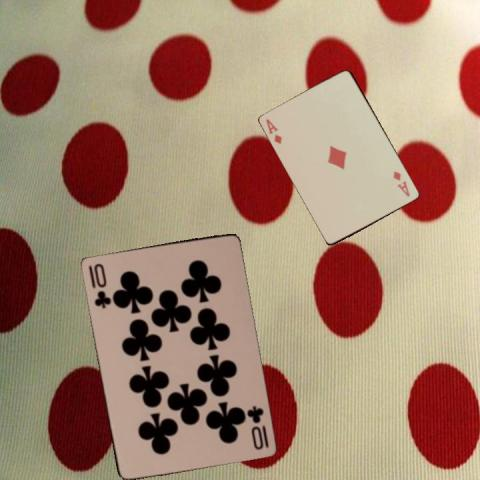10c: (85, 260, 112, 309), (244, 402, 270, 451)
Ad: (391, 168, 411, 199), (264, 116, 284, 146)
